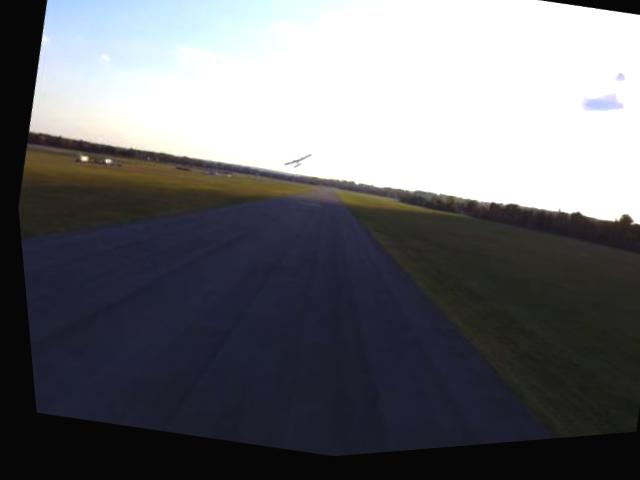uav: (277, 154, 312, 181)
